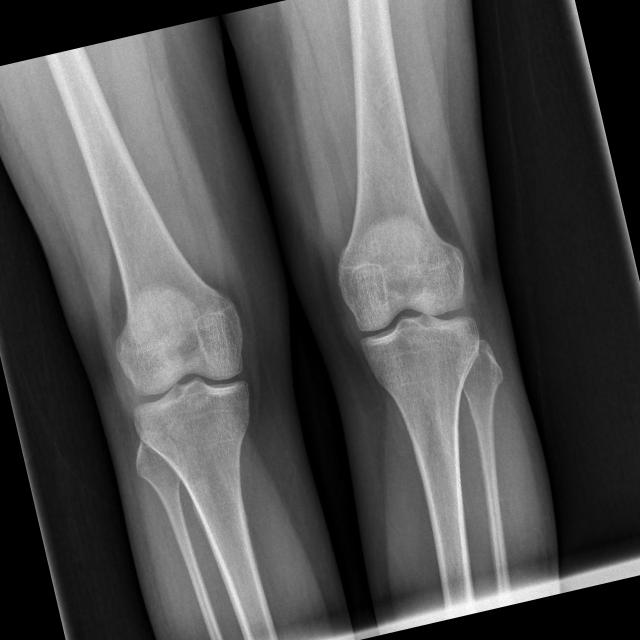Knee: (109, 300, 264, 452), (334, 242, 486, 388)
